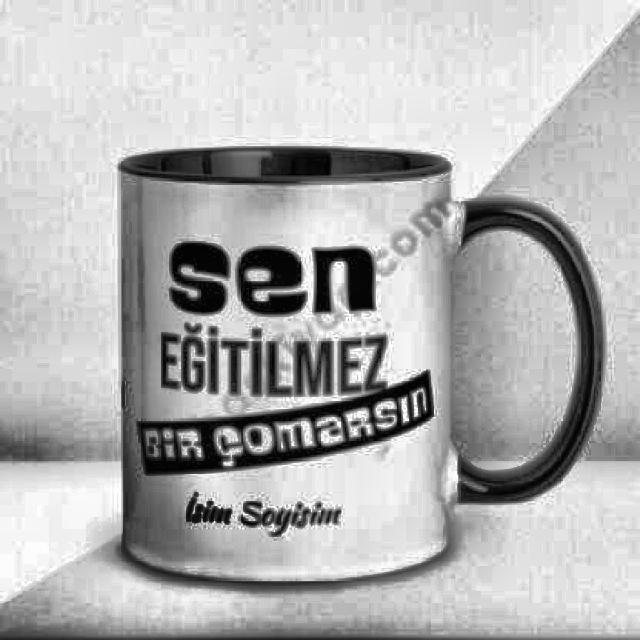Mug: (116, 145, 610, 589)
